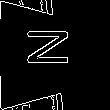N_E: (30, 35, 80, 75)
